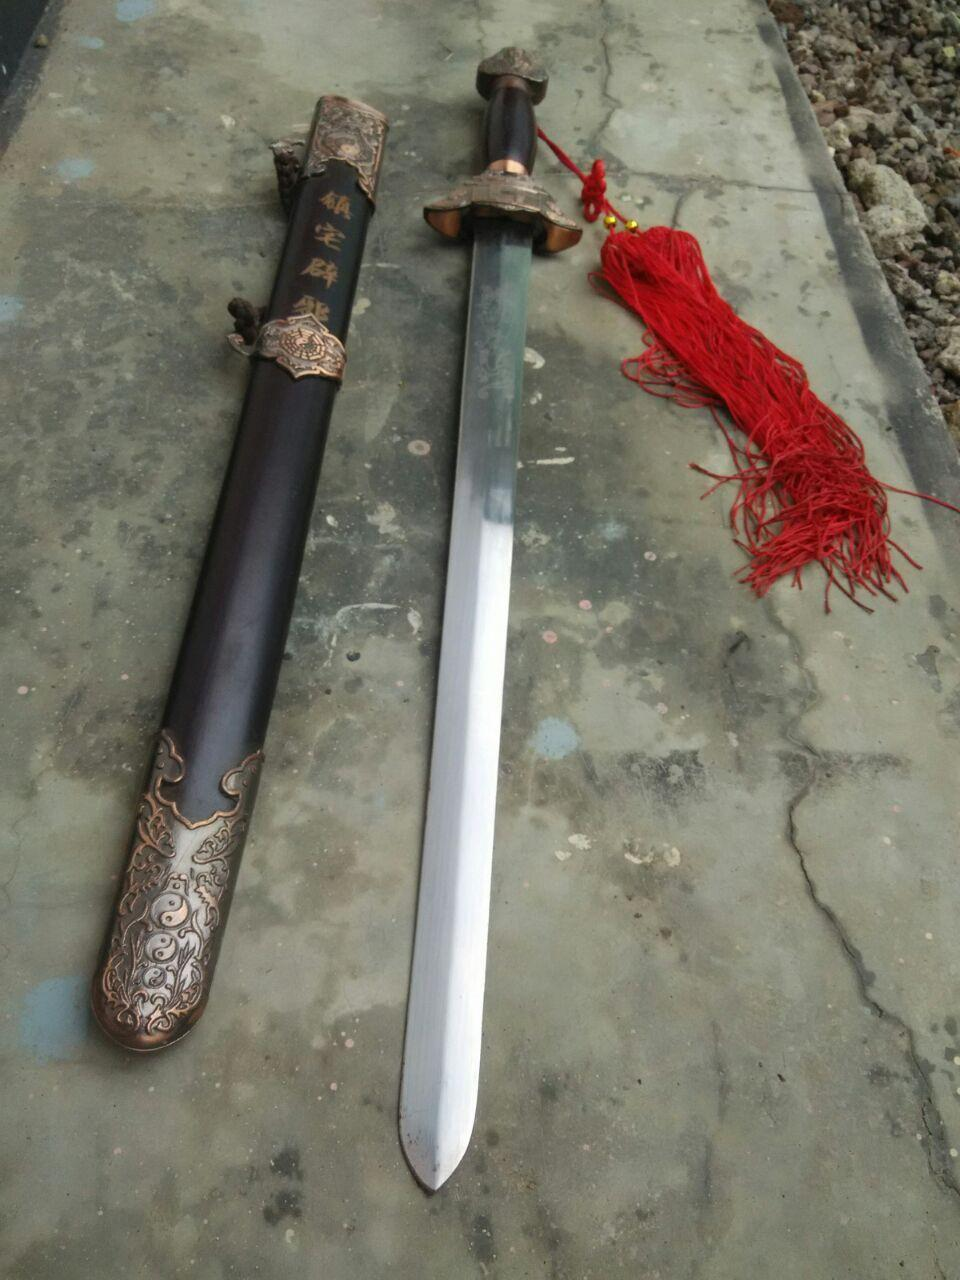espada: (388, 10, 615, 1217)
